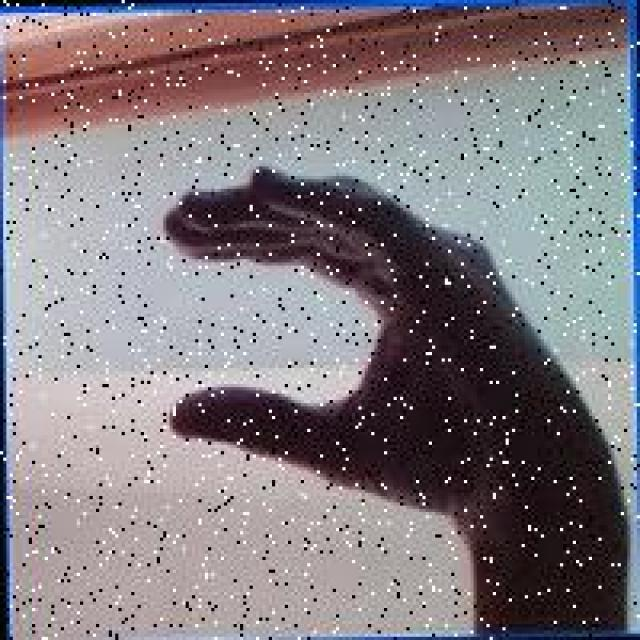C: (154, 155, 547, 517)
